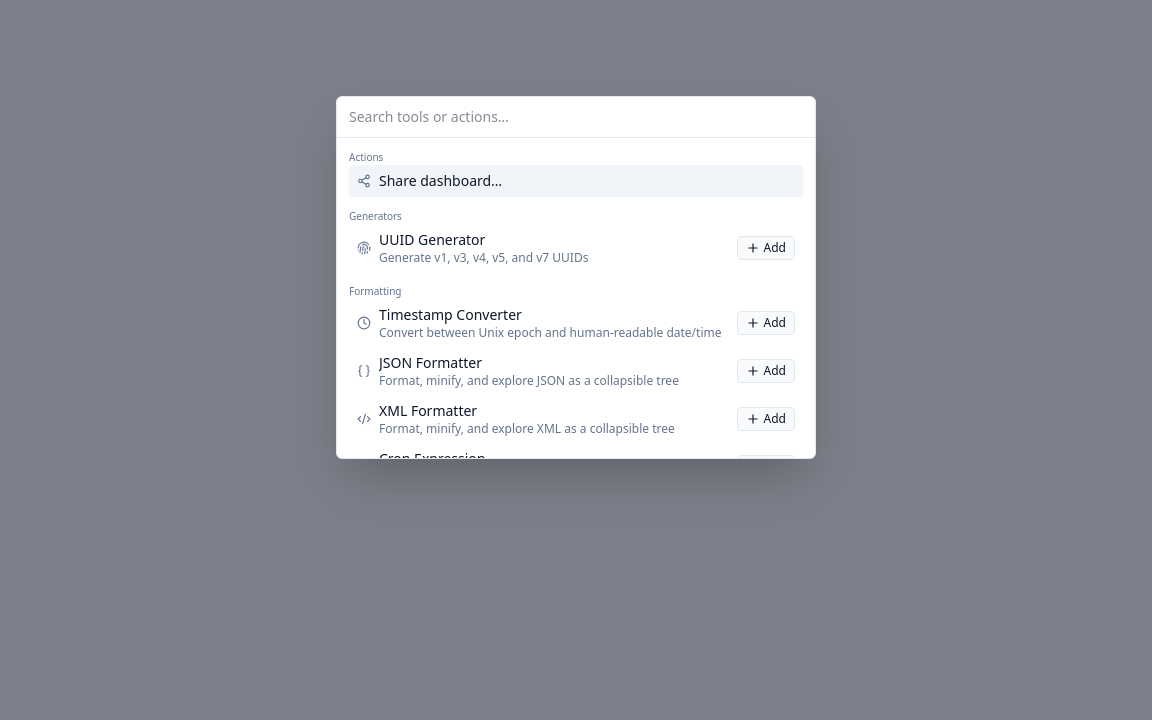
Scenario: CommandPalette › shows the full tool list, grouped by category, and narrows it as you type
expect the text "JSON Formatter" is shown: met, box [379,353,482,372]
expect the text "UUID Generator" is shown: met, box [379,230,485,249]
Type "json" into the dropdown with placeholder "Search tools or actions…" at (576, 118), box [337,97,815,138]
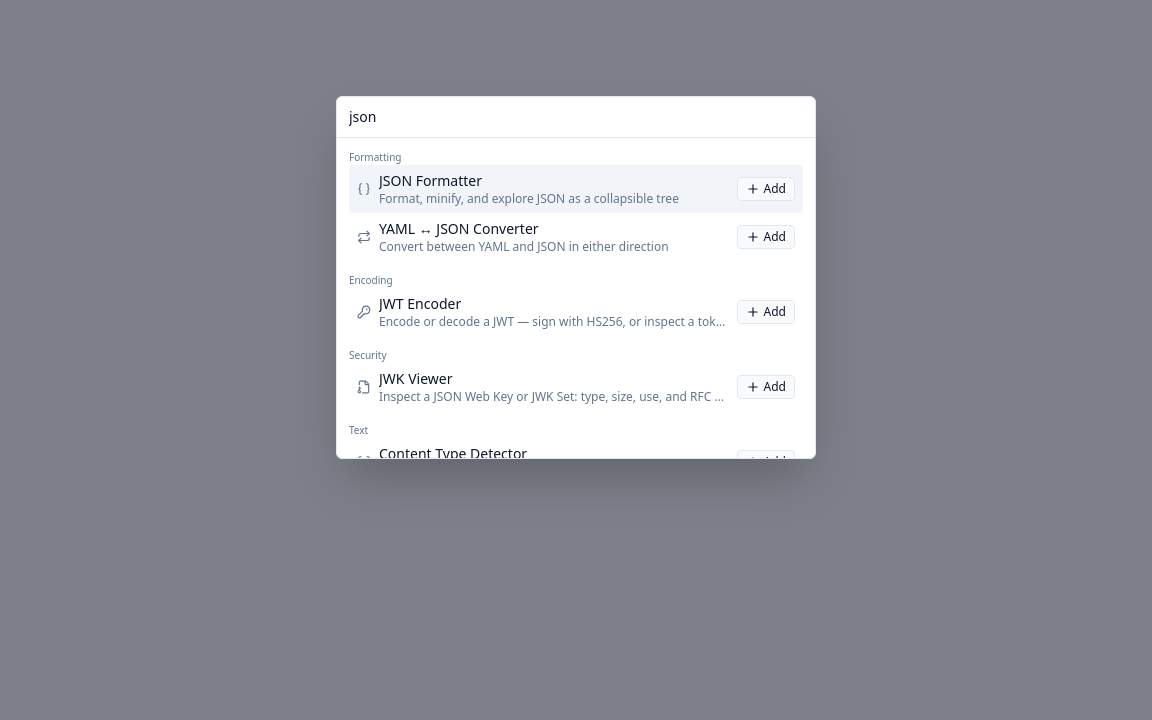
expect the text "JSON Formatter" is shown: met, box [379,171,482,190]
expect the option "UUID Generator" is gone: met
